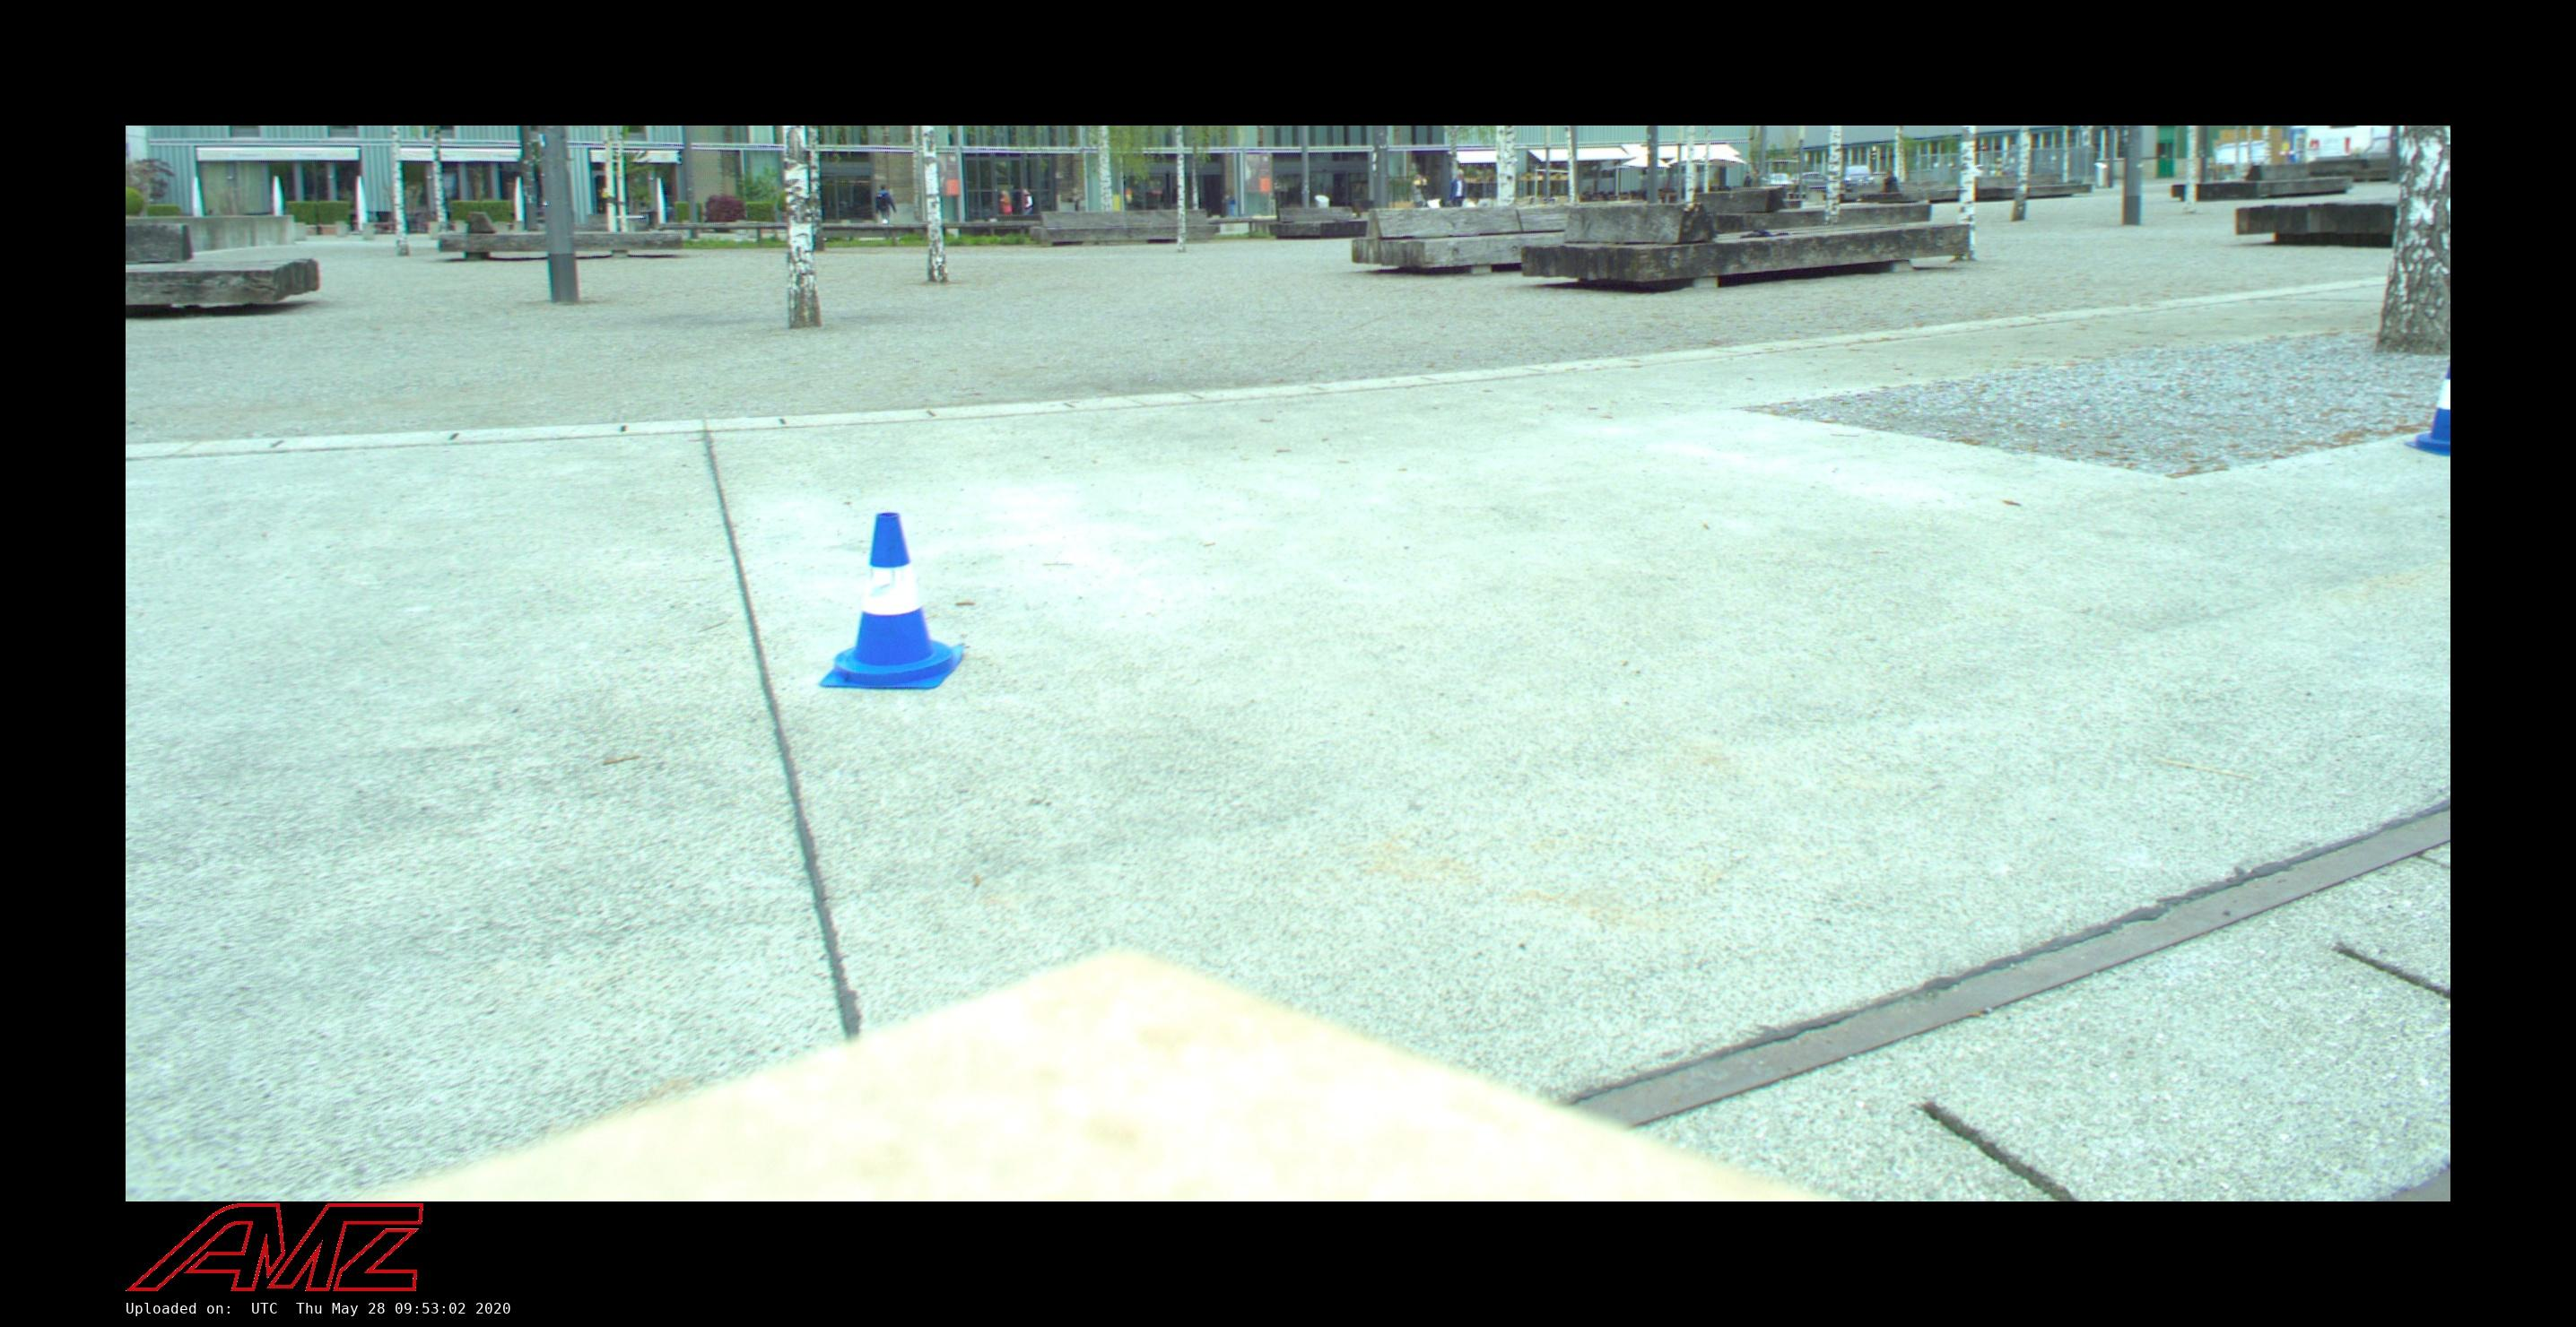blue_cone: (812, 506, 968, 689)
